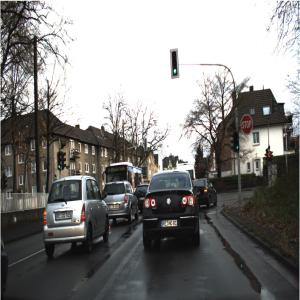STOP: (242, 115, 254, 136)
